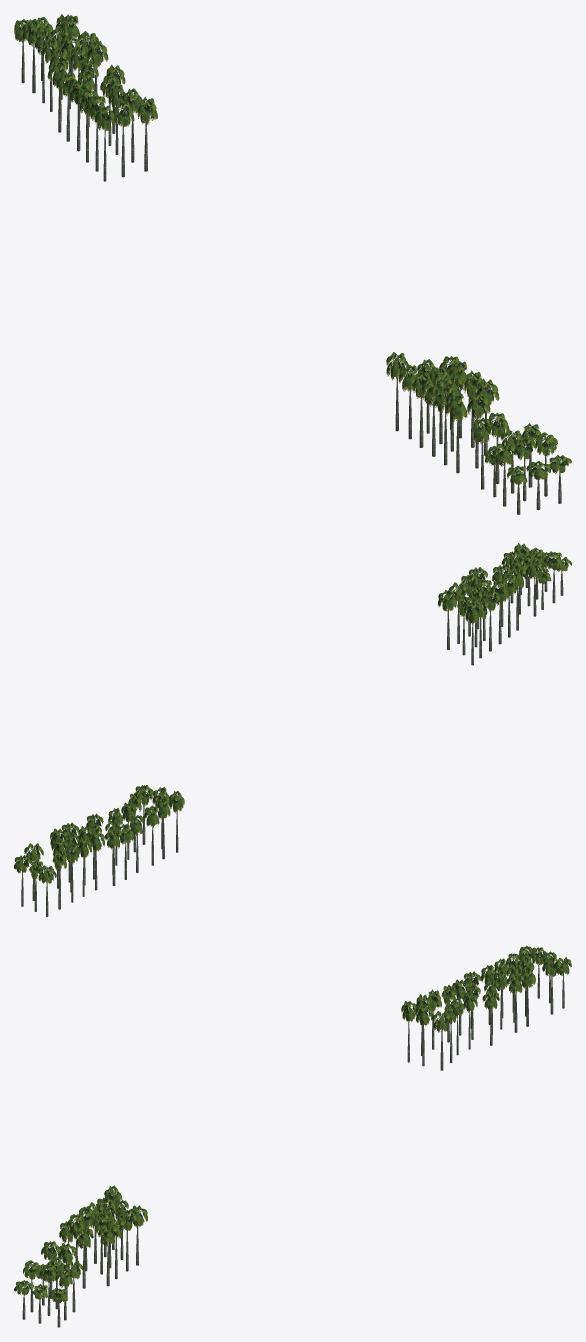
3 renders of one model, top to bottom at view 1: azimuth 30°, elevation 25°; view 2: azimuth 150°, elevation 25°; view 3: azimuth 330°, elevation 25°, orthographic. The views are drawn at different scales.
Visible parts, largest first — view 1: Sands promenade palm fronds and bark; view 2: Sands promenade palm fronds and bark; view 3: Sands promenade palm fronds and bark.
Boxes of the visible parts, x1,y1,x2,y2 form: Sands promenade palm fronds and bark: (14,14,571,514); Sands promenade palm fronds and bark: (14,543,571,916); Sands promenade palm fronds and bark: (14,945,571,1327).
Size of the model in its own units: 26.16 by 15.01 by 203.
1 material, 1 textured.
